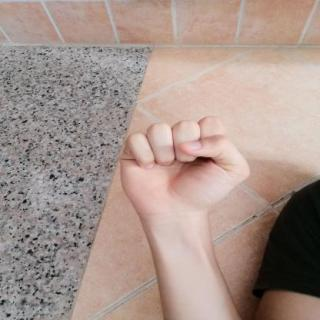SAD: (103, 107, 262, 225)
